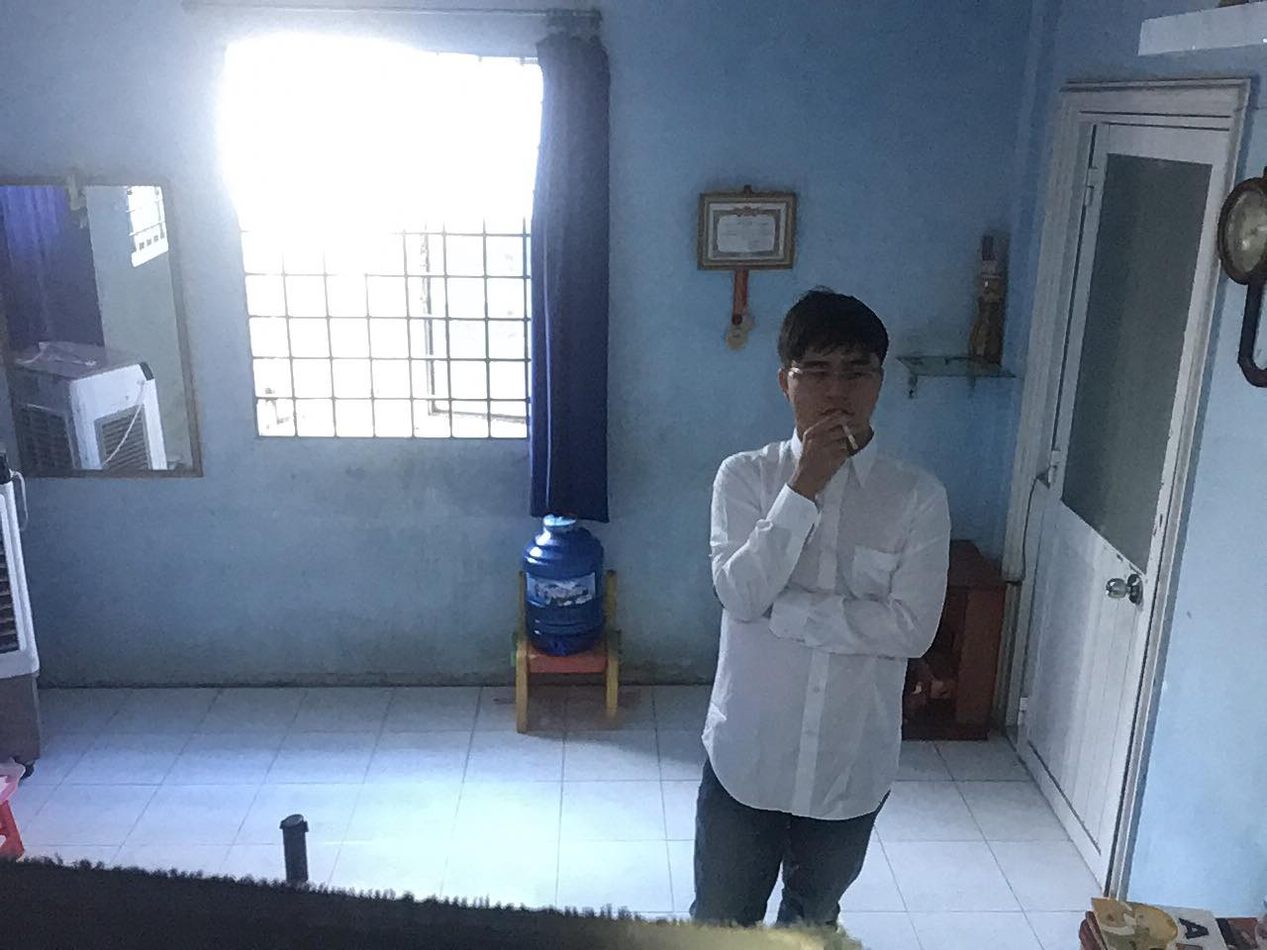cigarette: (837, 413, 864, 453)
person: (681, 274, 967, 950)
